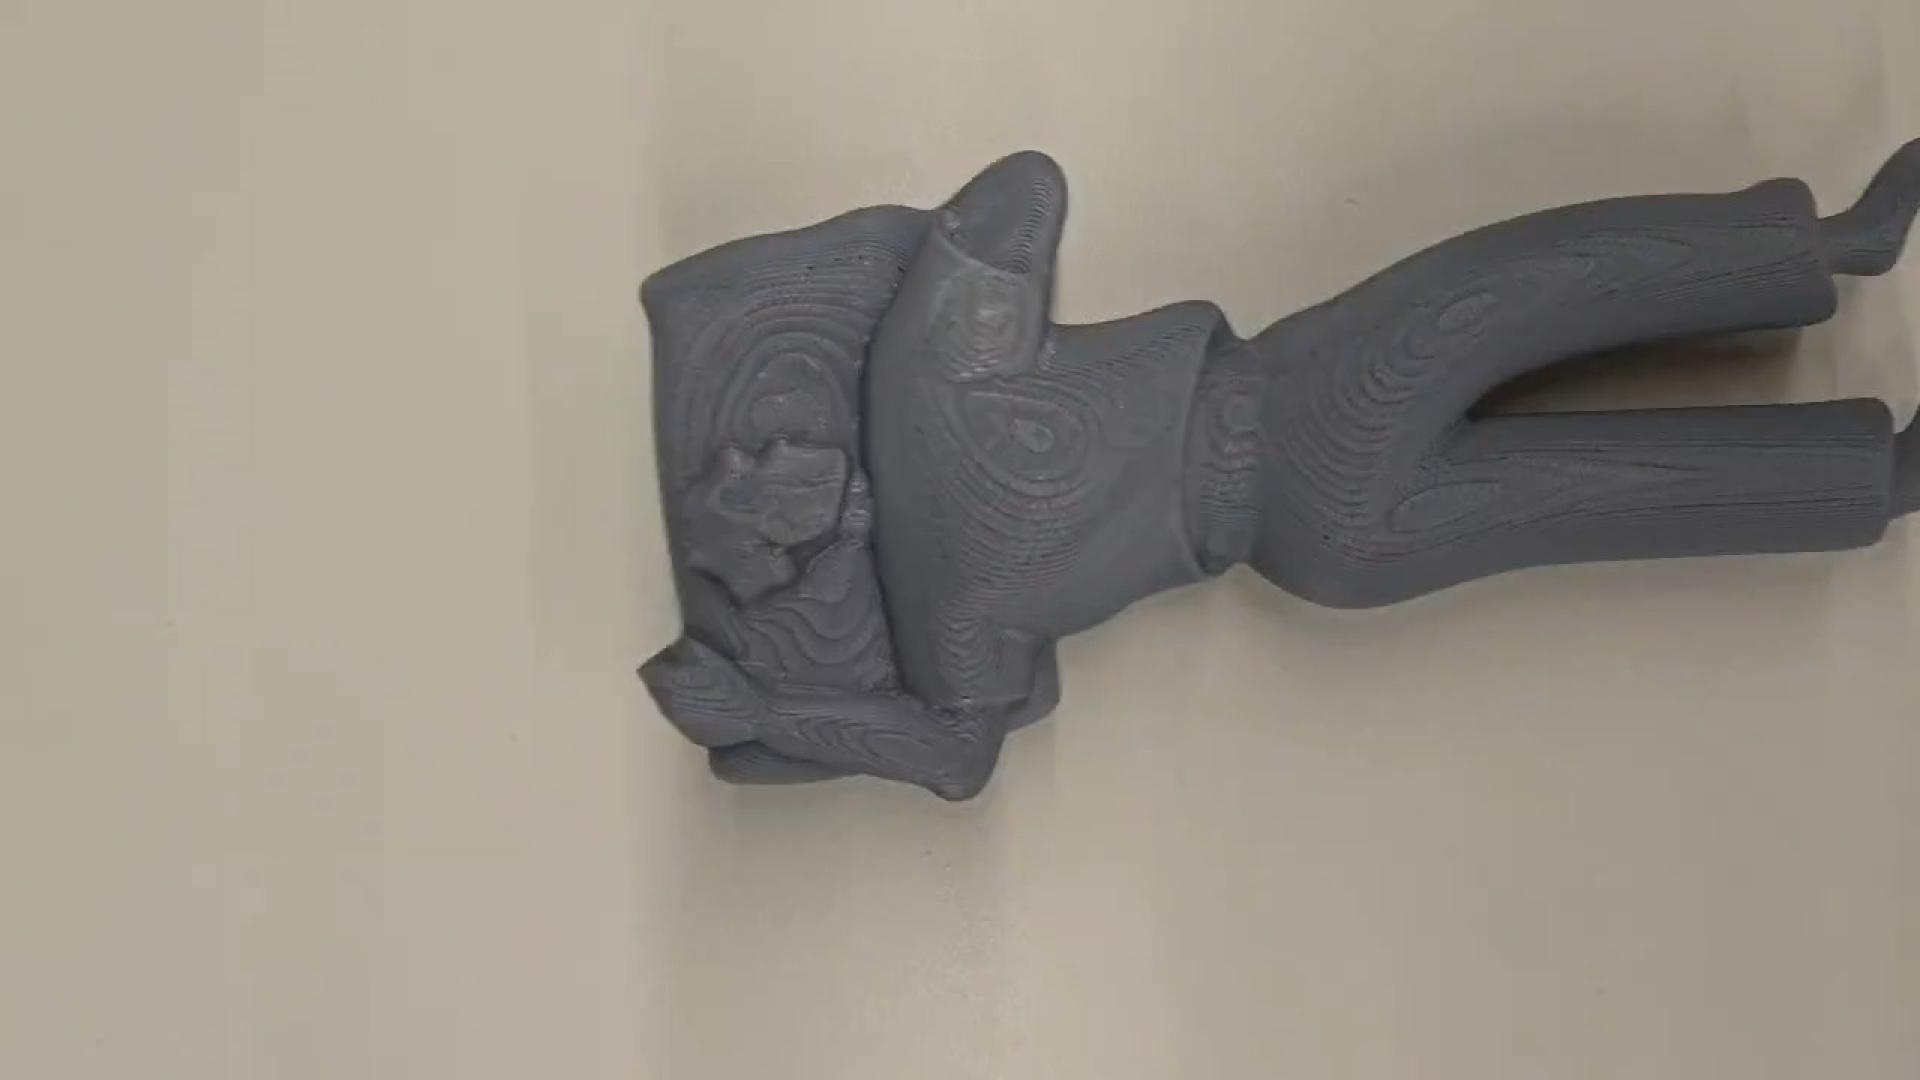Bad-style: (615, 124, 1920, 812)
